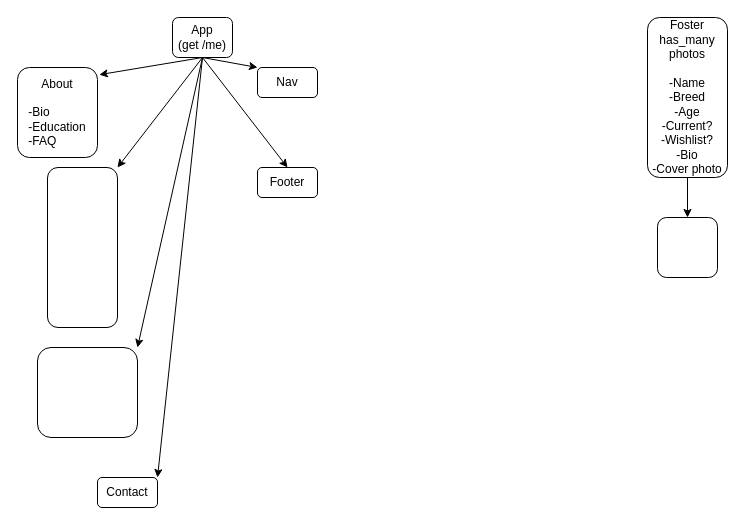
The diagram is 745 pixels wide and 525 high, and some of its shapes have lost their labels. Here are the shapes that lost their labels. From the top down, the centre of each, then its label:
point 82,247: Fostering -Current fosters -Former fosters -Foster wishlist -FAQ -Resources
point 687,247: Photo has_one foster
point 87,392: Training -Tips -Training help -Helpful resources
